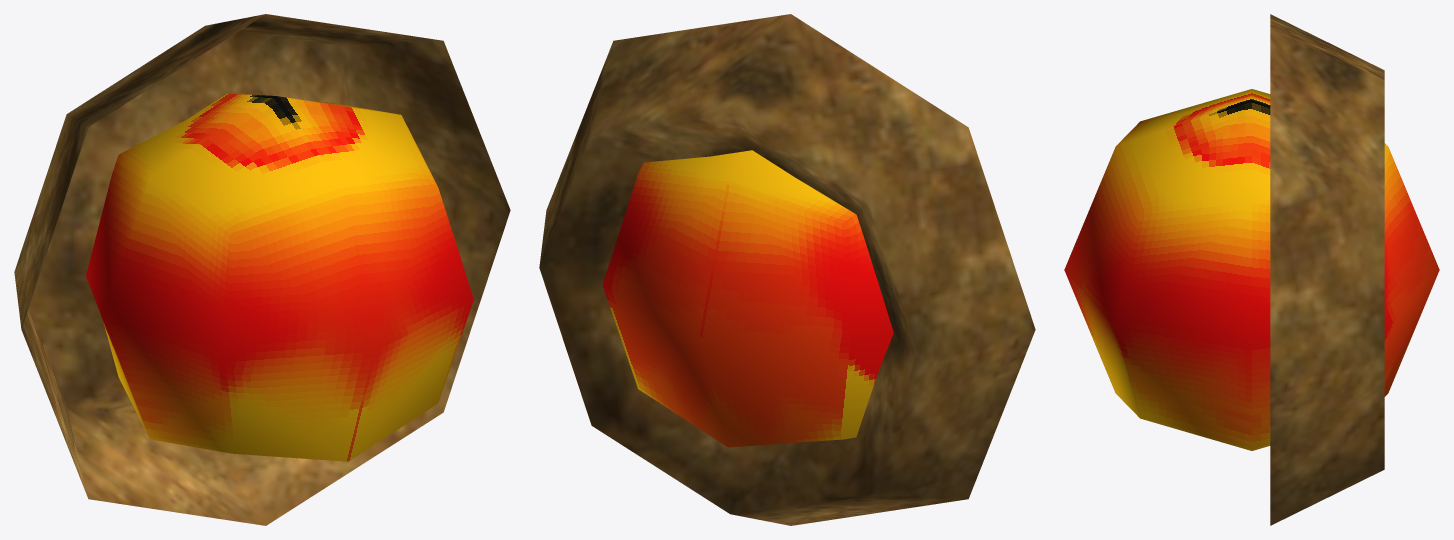
Rendered from creepyEye.fbx.
3 renders of one model, left to right at view 1: azimuth 30°, elevation 25°; view 2: azimuth 150°, elevation 25°; view 3: azimuth 270°, elevation 25°, orthographic. The views are drawn at different scales.
Parts seen in each view (by area): view 1: creepyEyeInner, creepyEyeOuter; view 2: creepyEyeOuter, creepyEyeInner; view 3: creepyEyeInner, creepyEyeOuter.
Boxes of the visible parts, x1,y1,x2,y2 form: creepyEyeInner: [86, 93, 473, 461]; creepyEyeOuter: [14, 14, 510, 525]; creepyEyeOuter: [539, 14, 1035, 525]; creepyEyeInner: [602, 150, 893, 447]; creepyEyeInner: [1064, 89, 1439, 450]; creepyEyeOuter: [1270, 14, 1384, 525].
Bounding box in the file's own units: 2.37 × 2.37 × 1.68.
